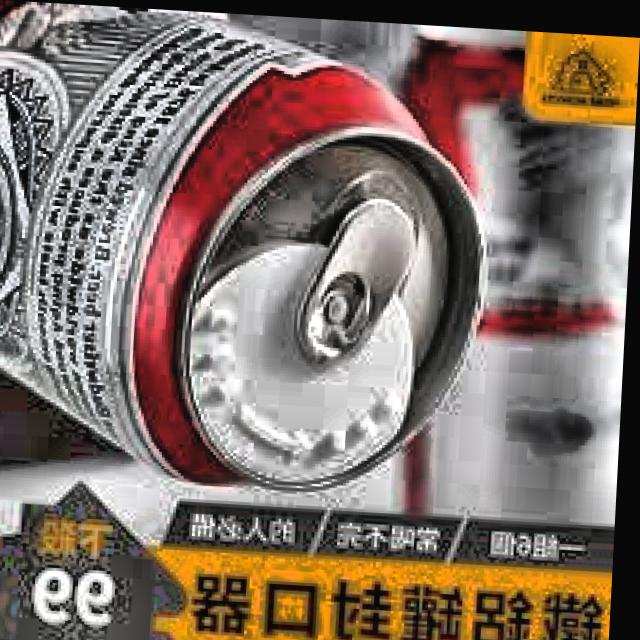can: (0, 0, 502, 509)
